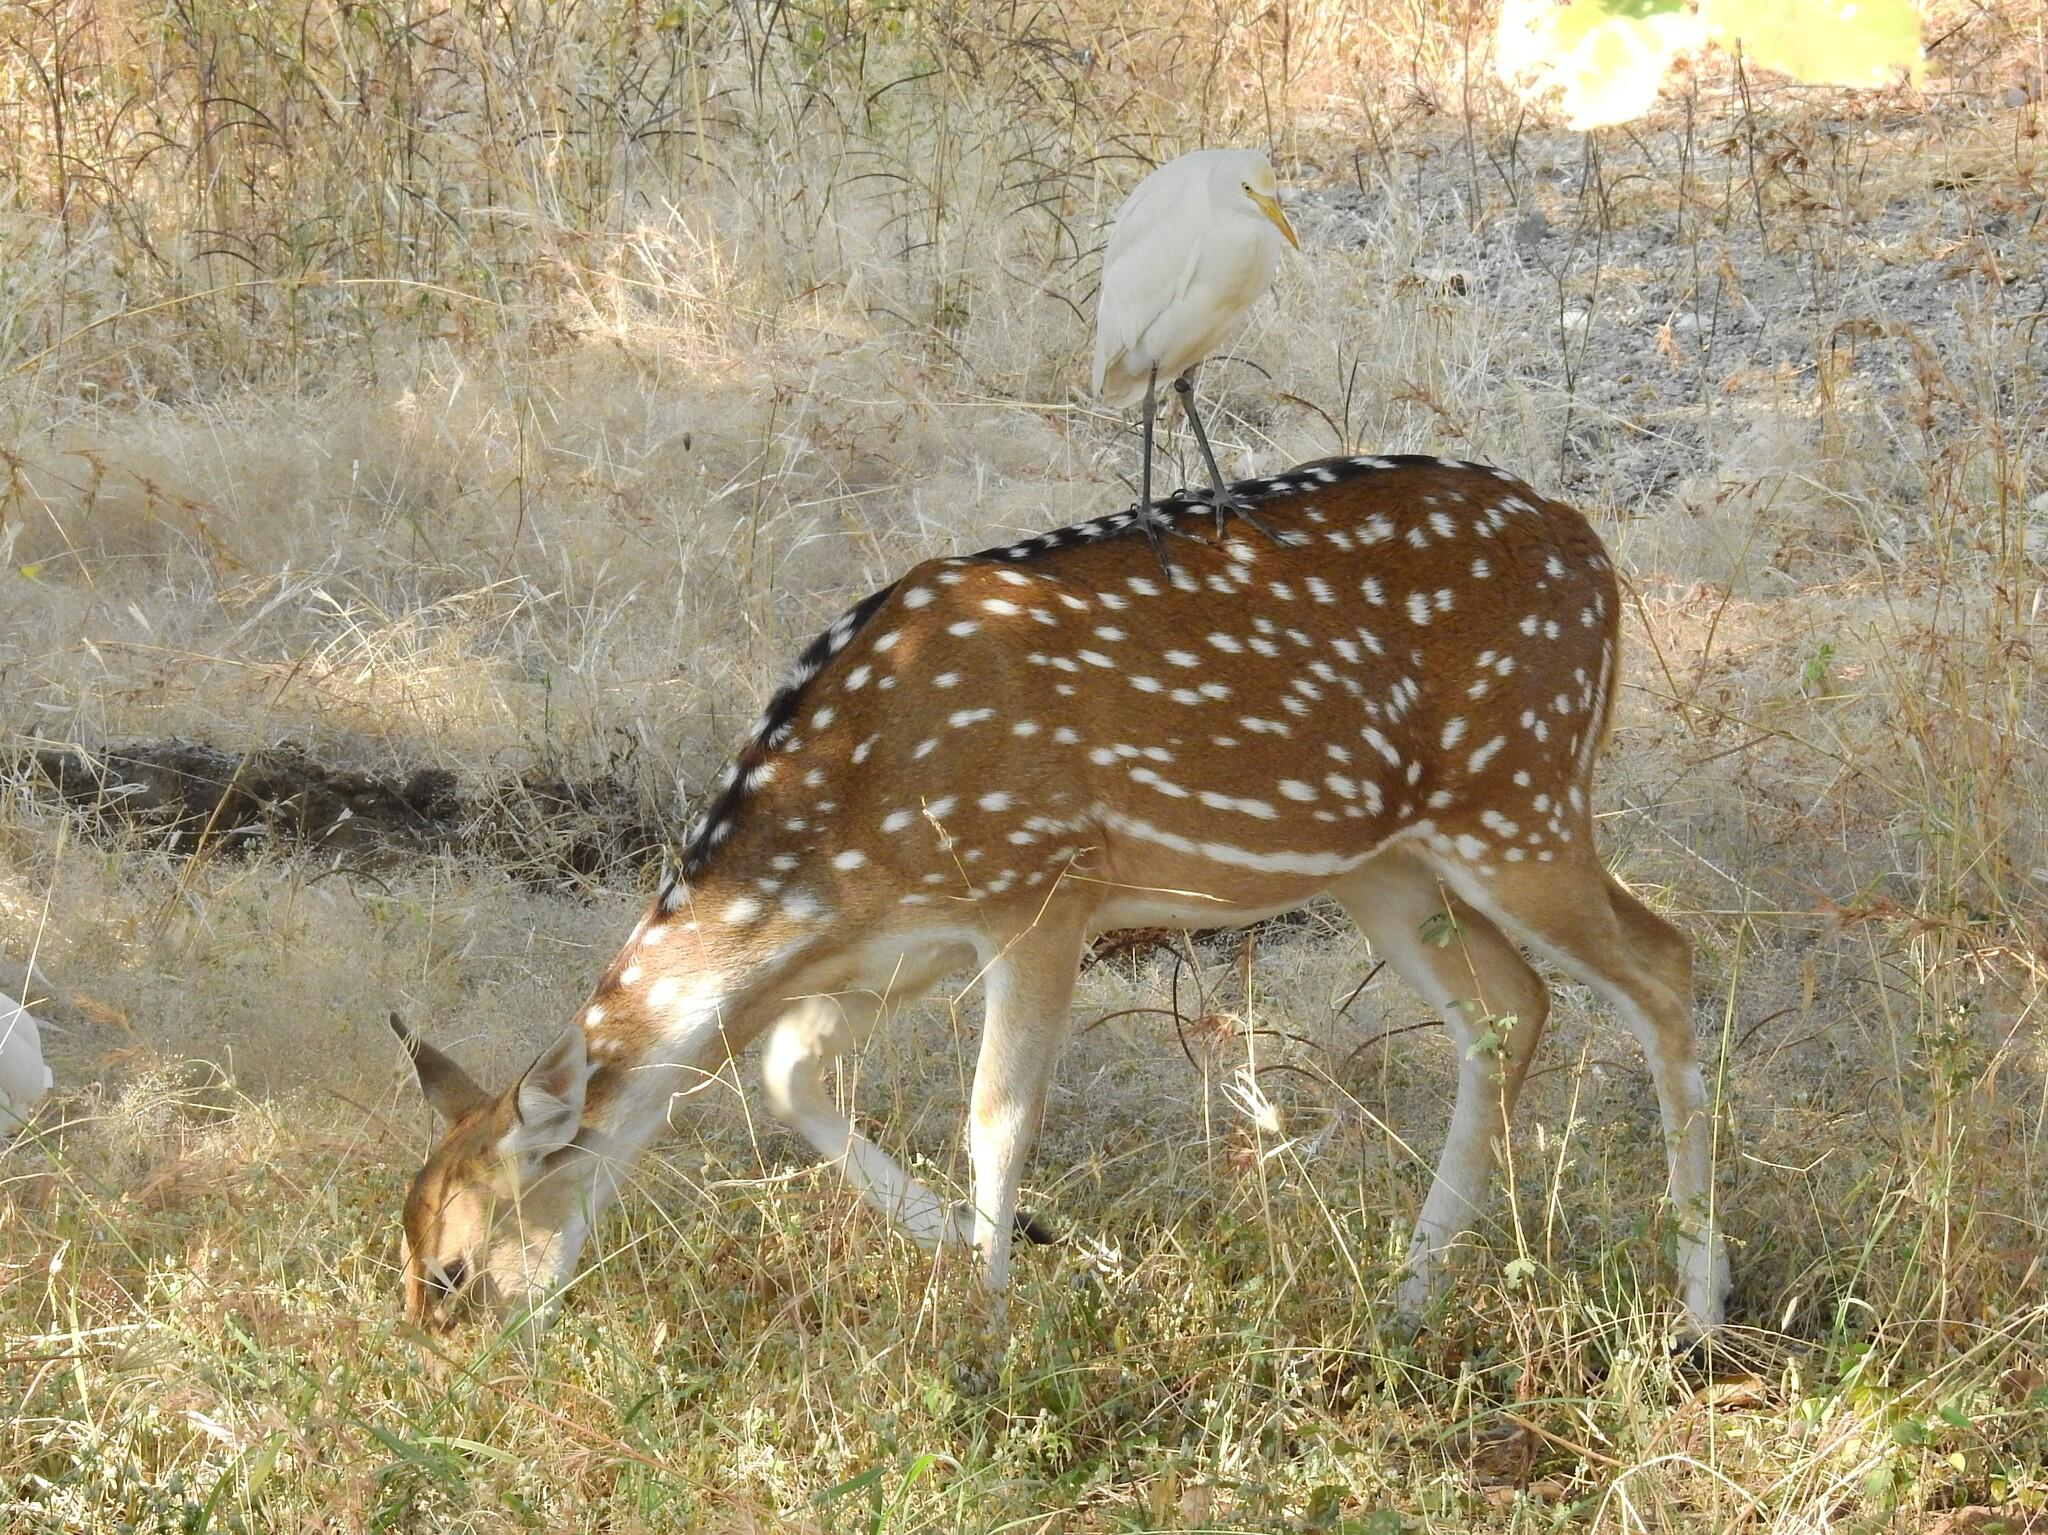Deer: (405, 455, 1724, 1329)
